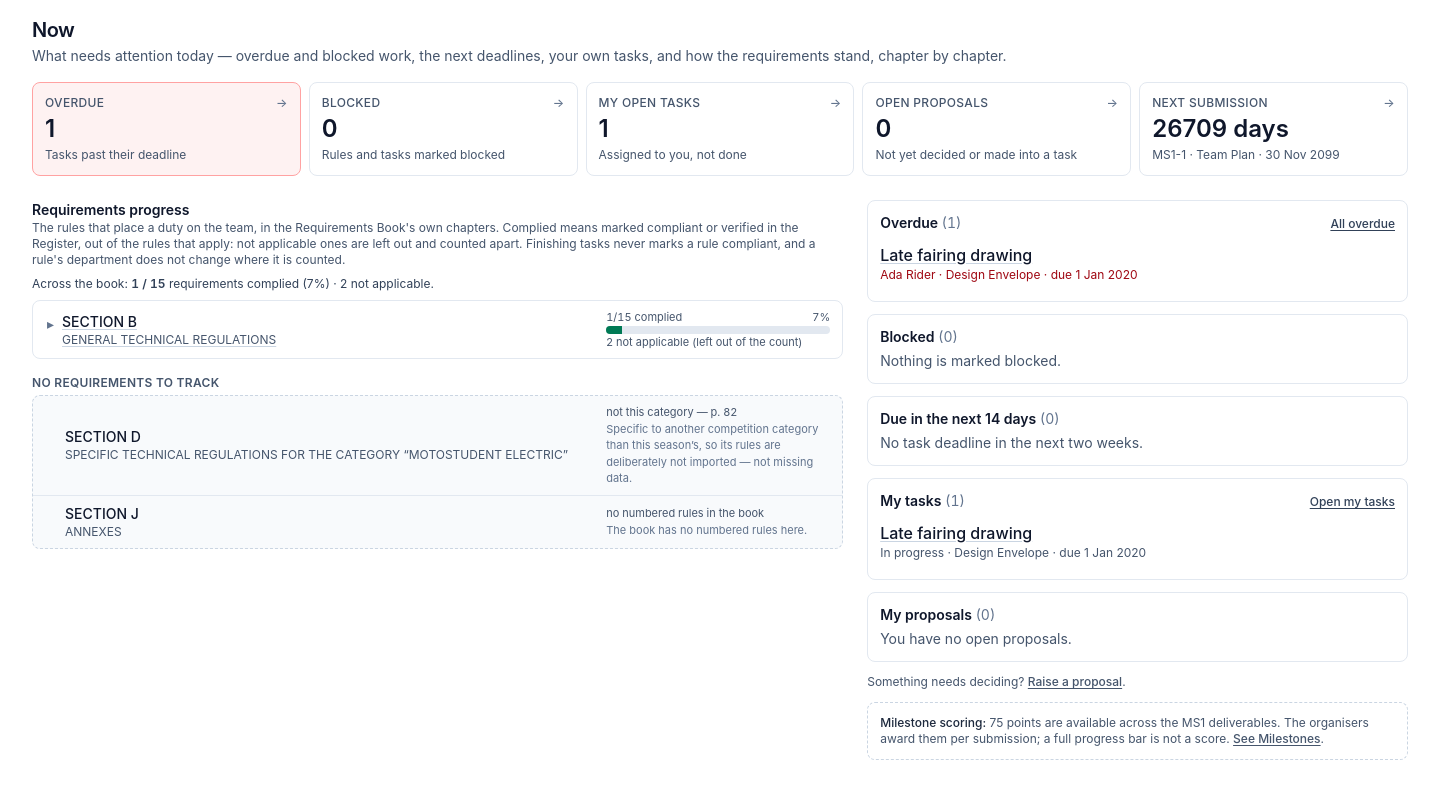
Scenario: Register navigation › a chapter on Now lands on the Register showing only that chapter
Click the link with test id "book-chapter-B-link" at (169, 330), box [62,312,276,348]
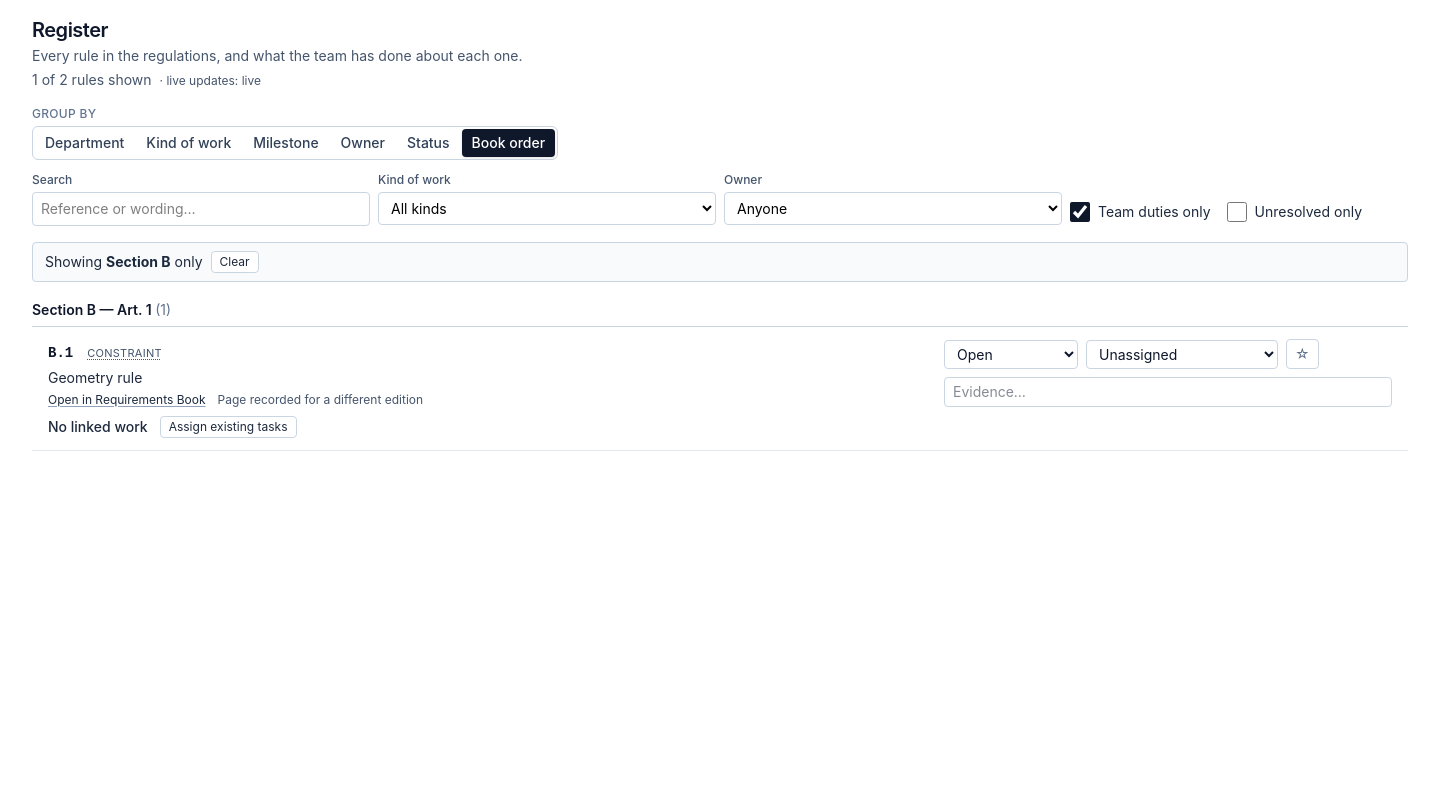
Expected: the element with test id "chapter-scope" shows "Section B", [45,252,202,272]
Expected: the text "Geometry rule" is shown, [48,368,142,386]
